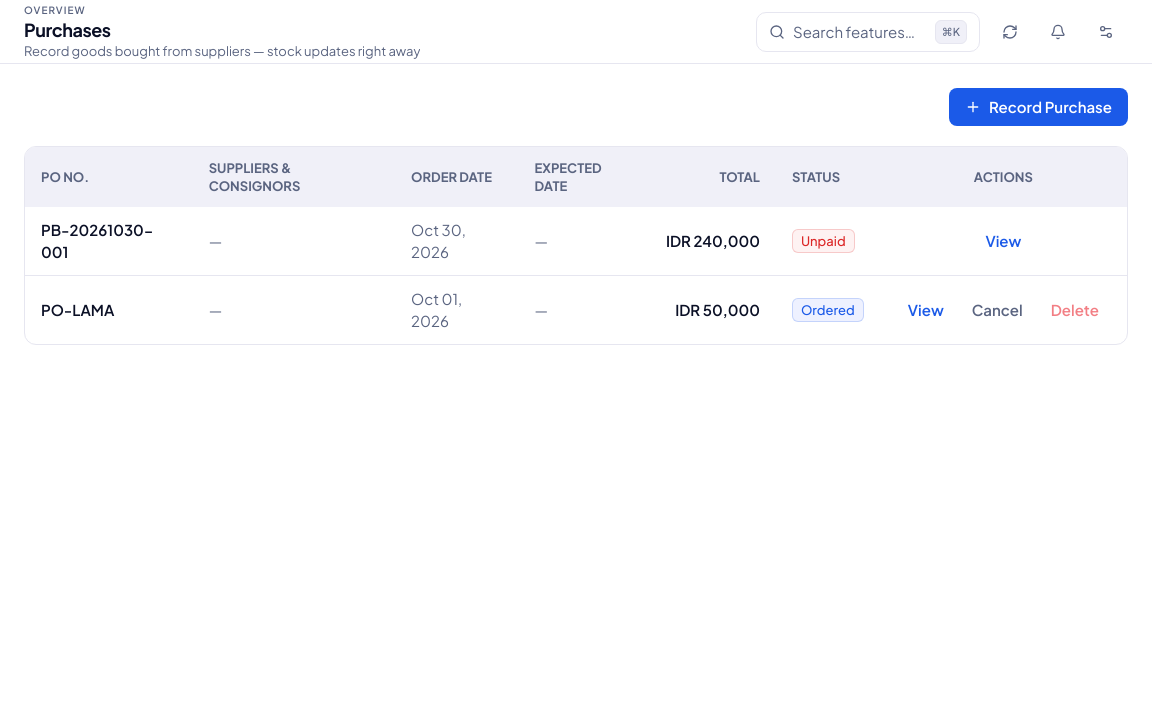
it: Pakai Purchase Order › mati: "Pembelian", tanpa tab status, tombol Catat Pembelian
Check: the row "PB-20261030-001 — Oct 30, 2026 — IDR 240,000 Unpaid View" is shown, box [25,207,1127,276]
Check: the row that starts with "PO-LAMA" shows "Ordered", box [801,302,855,318]
Click the button "Record Purchase" at (1039, 107), box [949,88,1128,126]
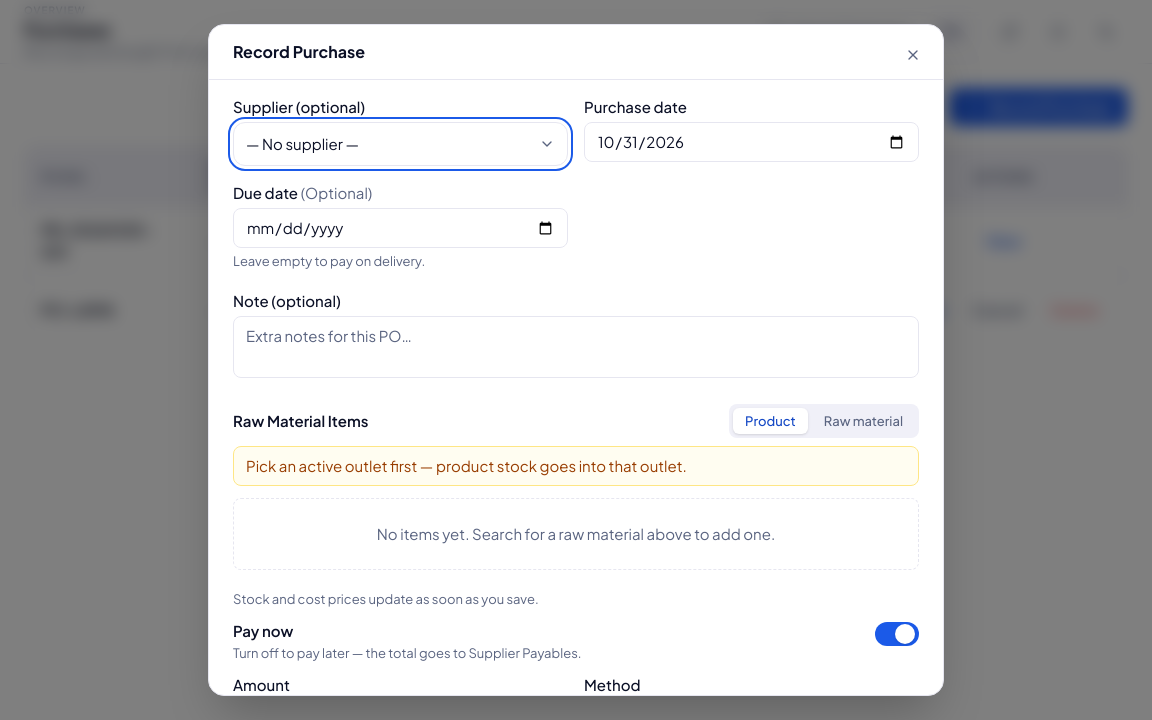
Check: the text "Purchase date" is shown, box [584,97,687,116]
Check: the text "Pay now" is shown, box [233,621,293,640]
